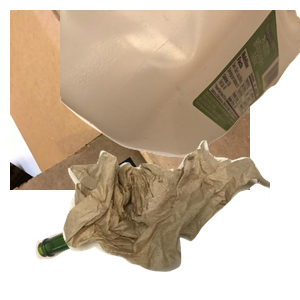cardboard: (10, 10, 250, 190)
glass: (33, 158, 246, 300)
plastic: (60, 10, 300, 160)
trash: (60, 138, 300, 300)
